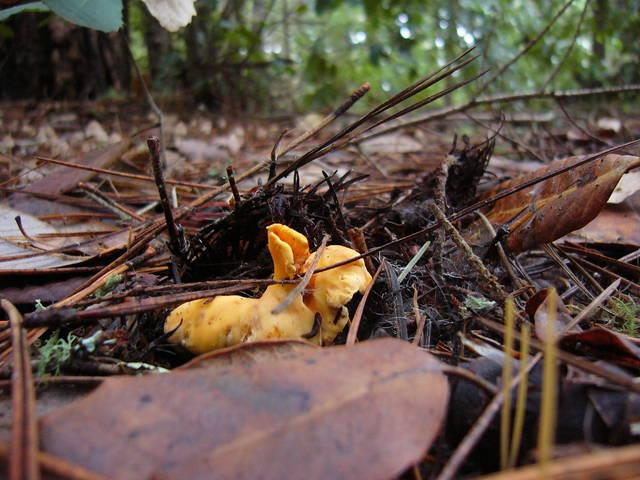Edible Mushroom: (162, 221, 372, 354)
